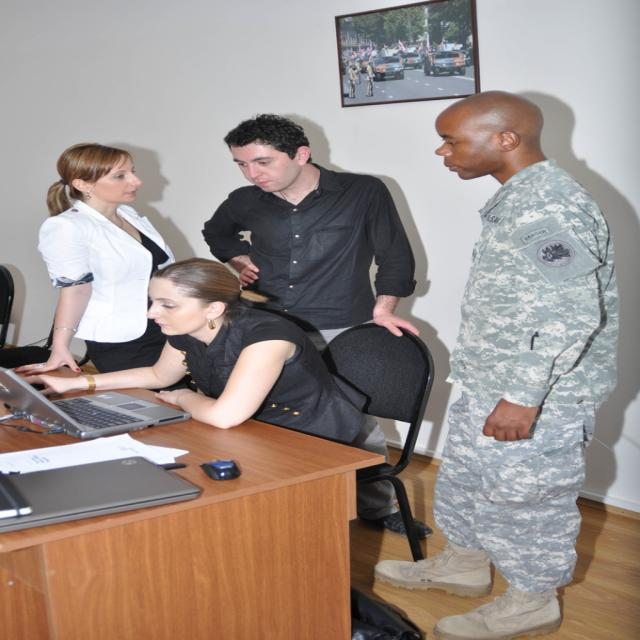chair: (321, 322, 435, 560), (0, 262, 22, 352)
desk: (7, 370, 382, 635)
laptop: (0, 454, 203, 532), (0, 365, 190, 439)
mouse: (199, 460, 241, 480)
person: (393, 94, 623, 640), (21, 258, 388, 453), (201, 113, 419, 344), (8, 142, 180, 386)
